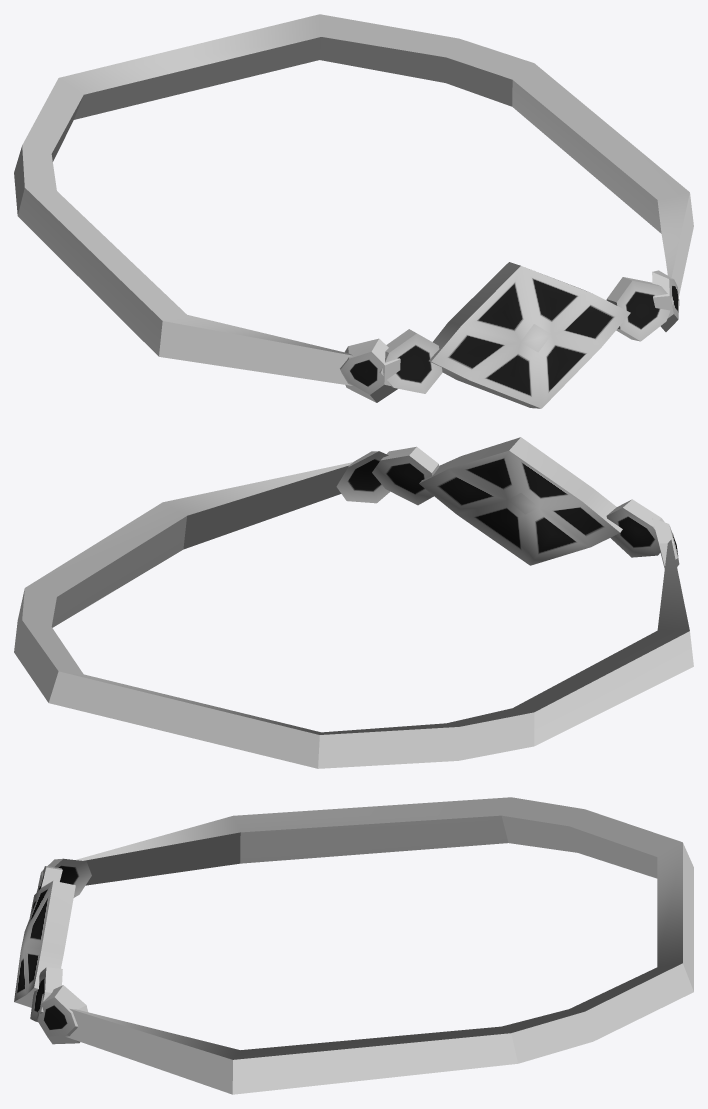
Rendered from Circlet_F.glb.
3 renders of one model, top to bottom at view 1: azimuth 30°, elevation 25°; view 2: azimuth 150°, elevation 25°; view 3: azimuth 270°, elevation 25°, orthographic. The views are drawn at different scales.
Parts seen in each view (by area): view 1: Circlet_F; view 2: Circlet_F; view 3: Circlet_F.
Boxes of the visible parts, x1=… form: Circlet_F: x1=14, y1=14, x2=693, y2=408; Circlet_F: x1=14, y1=437, x2=693, y2=768; Circlet_F: x1=14, y1=797, x2=693, y2=1094.
Bounding box in the file's own units: 0.2203 × 0.0533 × 0.2556.
Materials: 1 (1 with a texture image).
